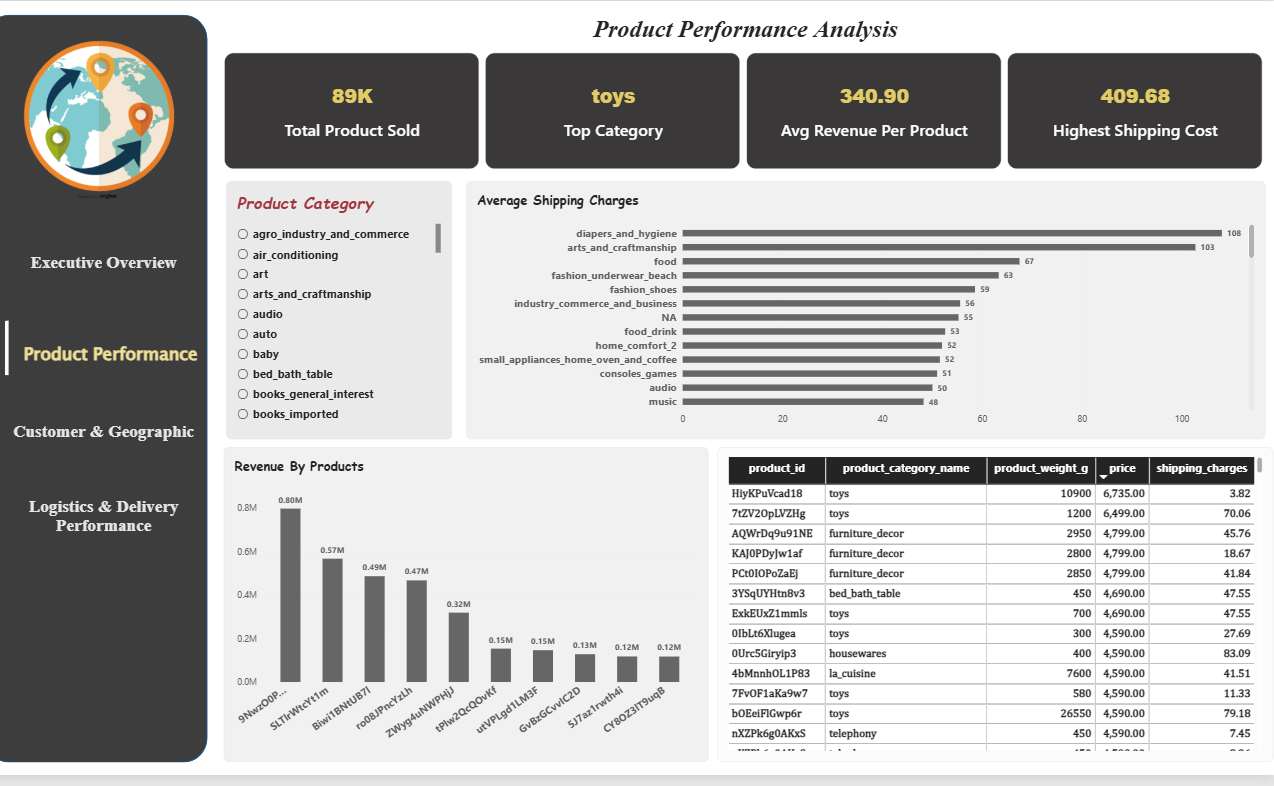

Layout of this report page (visuals, bound fields, positions):
{"tool":"powerbi","page":{"name":"Product Performance","canvas":[2000,1200],"ordinal":1},"visuals":[{"type":"shape","box":[0,20.6,345.2,1160.4],"z":0},{"type":"image","box":[22.5,43.2,300.7,271.7],"z":1000},{"type":"cardVisual","fields":{"Data":["df_OrderItems.Total Product Sold","df_OrderItems.Top Category","df_OrderItems.Avg Revenue Per Product","df_OrderItems.Highest Shipping Cost"]},"box":[370.9,79.3,1614.5,182.2],"z":3000},{"type":"textbox","box":[375.2,20.6,1611.6,45],"z":4000},{"type":"clusteredColumnChart","title":"Revenue By Products","fields":{"Category":["df_OrderItems.product_id"],"Y":["df_Customers.Revenue"]},"box":[370.4,692.8,751.6,488],"z":5000},{"type":"tableEx","fields":{"Values":["df_Products.product_id","df_Products.product_category_name","df_Products.product_weight_g","df_OrderItems.price","df_OrderItems.shipping_charges"]},"box":[1137.3,692.8,862.7,488],"z":6000},{"type":"barChart","title":"Average Shipping Charges","fields":{"Category":["df_Products.product_category_name"],"Y":["Avg(df_OrderItems.shipping_charges)"]},"box":[747.3,278.9,1239.7,400.9],"z":7000},{"type":"listSlicer","title":"Product Category","fields":{"Values":["df_Products.product_category_name"]},"box":[374.7,278.9,350.8,400.9],"z":9001},{"type":"pageNavigator","box":[11.6,345.2,345.2,519.8],"z":9002}]}

Visuals, with their boxes on the page's 2000x1200 design canvas (x1, y1, x2, y2). These are canvas units, not pixel positions in the 1274x786 screenshot, which may show the page scaled, cropped or inside an application window:
shape: 0 21 345 1181
image: 22 43 323 315
cardVisual - df_OrderItems.Total Product Sold x df_OrderItems.Top Category: 371 79 1985 262
textbox: 375 21 1987 66
"Revenue By Products" clusteredColumnChart: 370 693 1122 1181
tableEx - df_Products.product_id x df_Products.product_category_name: 1137 693 2000 1181
"Average Shipping Charges" barChart: 747 279 1987 680
"Product Category" listSlicer: 375 279 726 680
pageNavigator: 12 345 357 865
